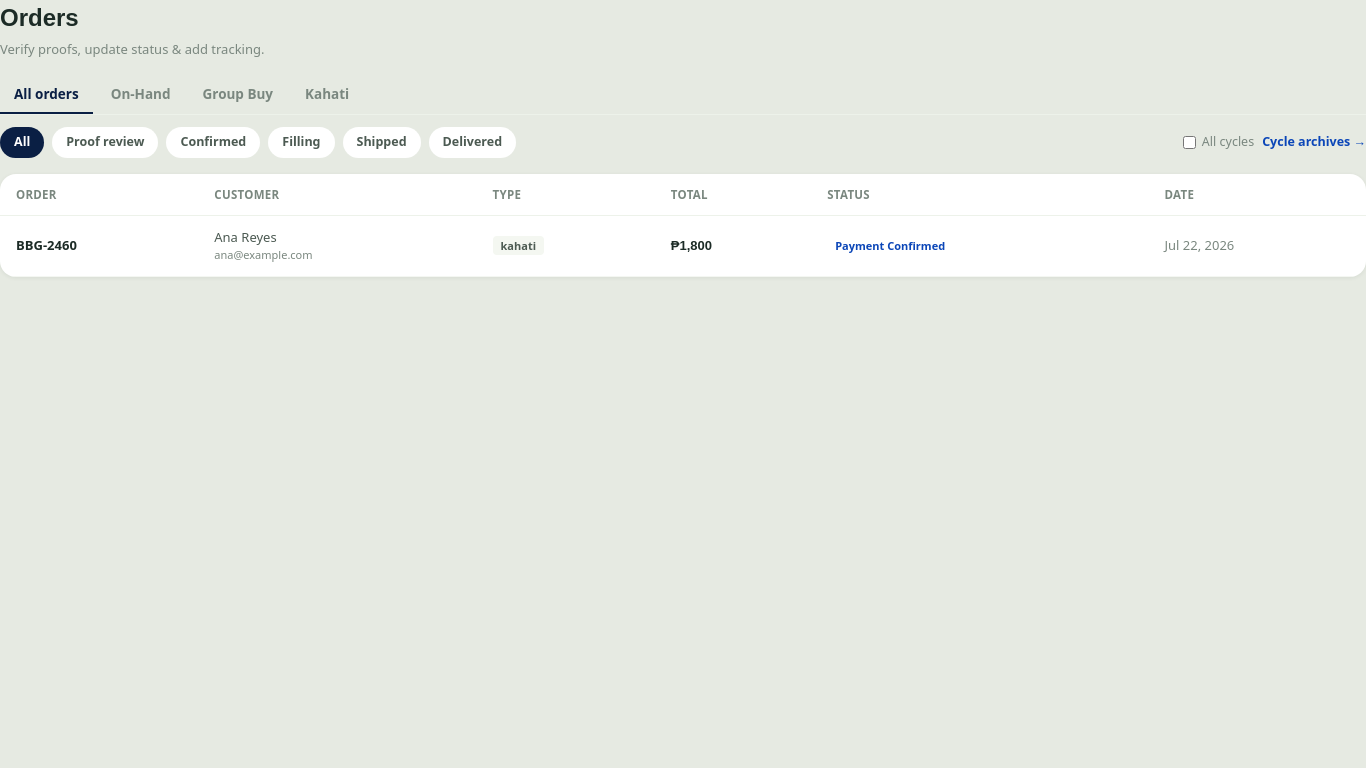
Test: Admin order sheet — an order with no proof › explains that a waived kahati commitment owed nothing
The image size is (1366, 768).
Click the text "BBG-2460".
click(46, 245)  # box [0,215,198,276]
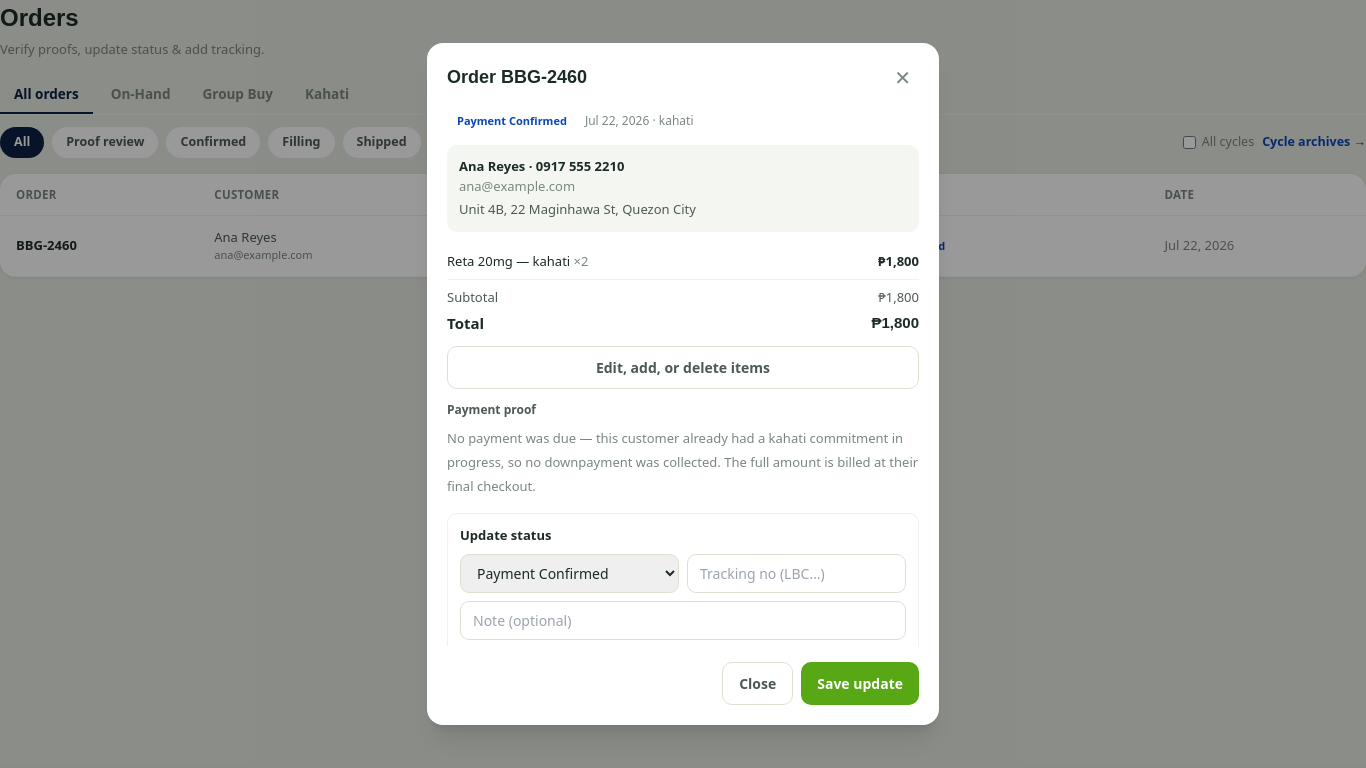
Expected: the text "Update status" is shown, [460,526,552,544]
Expected: the text "kahati commitment" is shown, [447,429,918,495]
